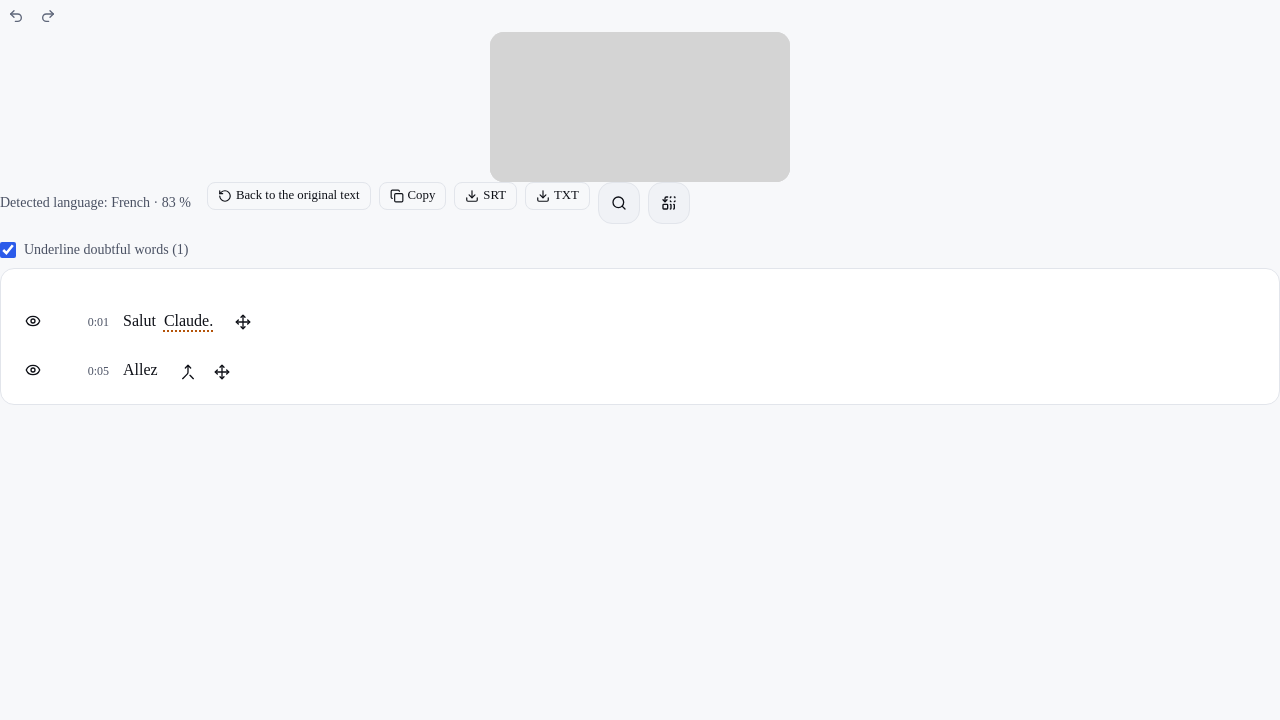
Test: TranscriptView › asks for confirmation, then puts the original text back
Click the button "Back to the original text" at coordinates (289, 196), box [207,182,371,210]
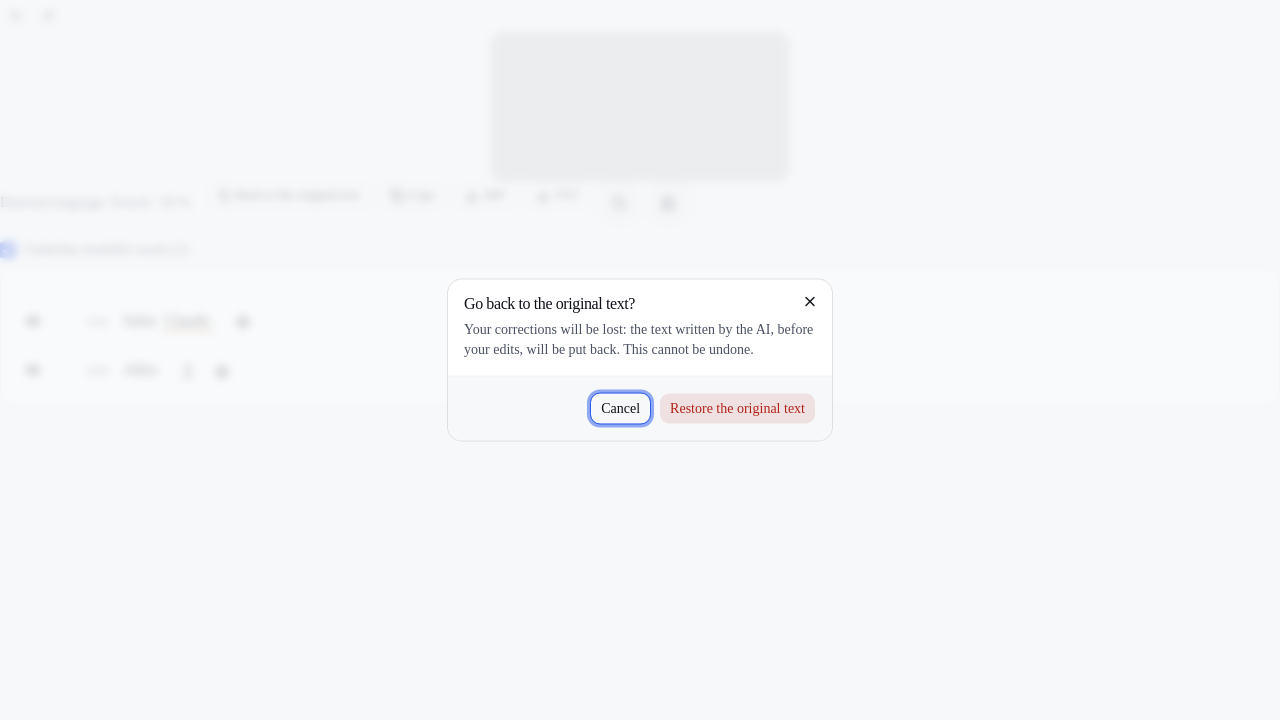
Expected: the heading "Go back to the original text?" is shown, [464,294,635,312]
Click the button "Restore the original text" at coordinates (738, 408), box [659,392,816,424]
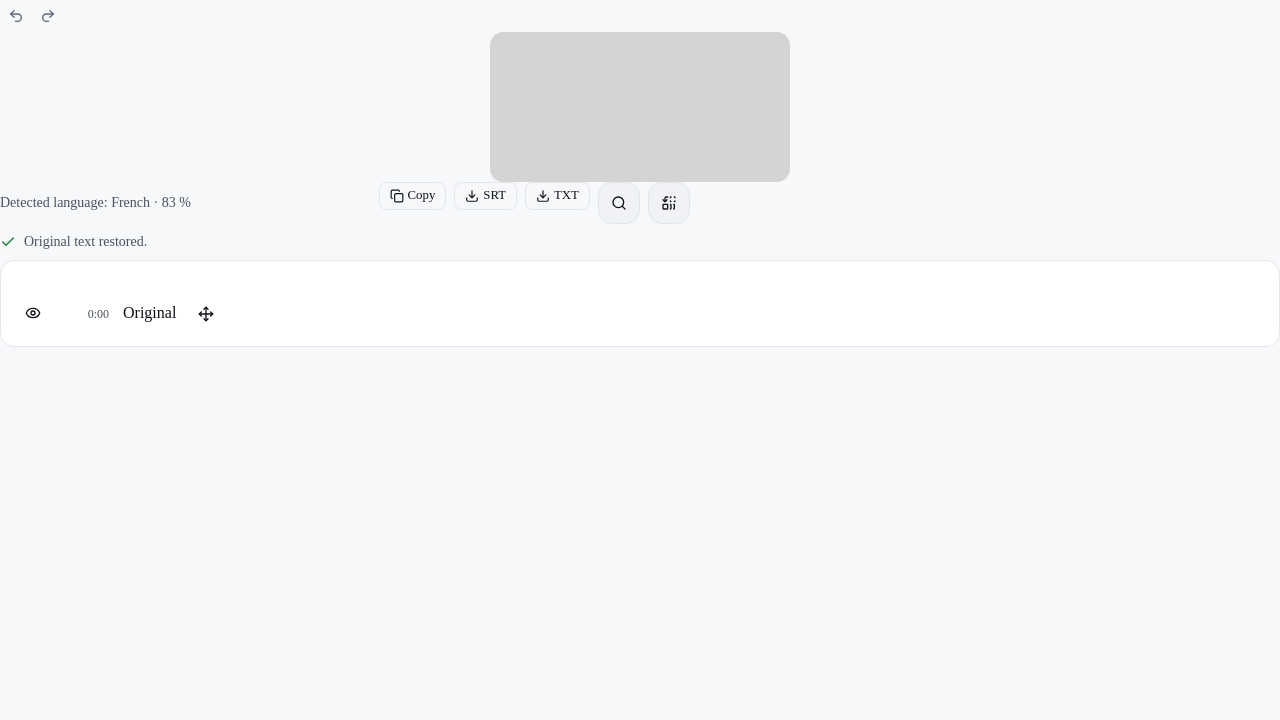
Expected: the text "Original text restored." is shown, [0,234,147,250]
Expected: the button "Original" is shown, [121,297,178,329]
Expected: the button "Salut" is gone
